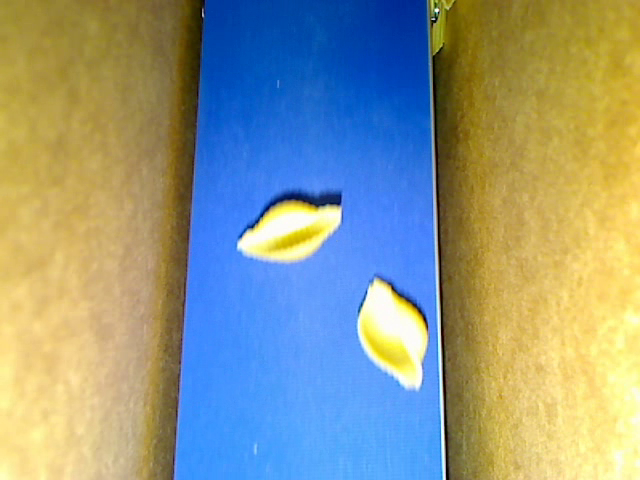penne: (431, 1, 447, 59), (440, 1, 455, 15)
shell: (354, 274, 428, 389), (236, 198, 345, 267)
